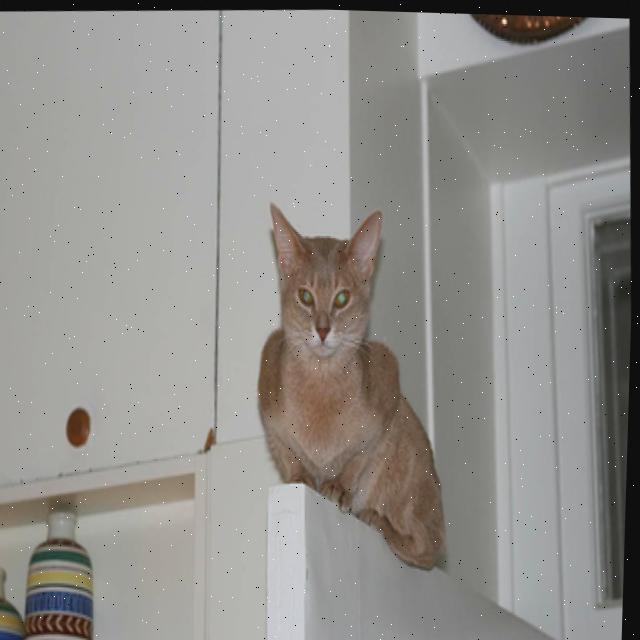Abyssinian: (245, 190, 461, 579)
